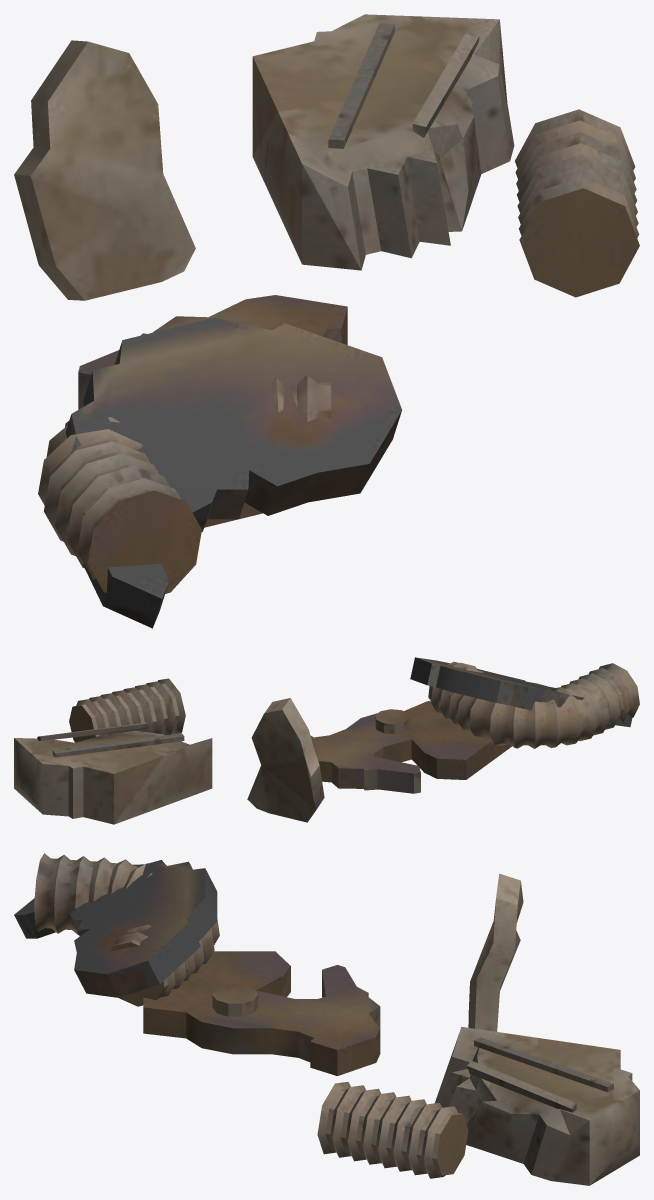
Rendered from crash-site-spaceship-wreck-small-3.glb.
The picture shows the model from 3 angles, top to bottom: view 1: azimuth 30°, elevation 25°; view 2: azimuth 150°, elevation 25°; view 3: azimuth 270°, elevation 25°; orthographic projection. The views are drawn at different scales.
Visible parts, largest first — view 1: body; view 2: body; view 3: body.
Part boxes in pixels (x1,y1,x2,y2): body: [14, 14, 639, 628]; body: [14, 657, 639, 824]; body: [14, 853, 639, 1185].
Bounding box in the file's own units: 2.18 × 0.6285 × 2.17.
1 material, 1 textured.
